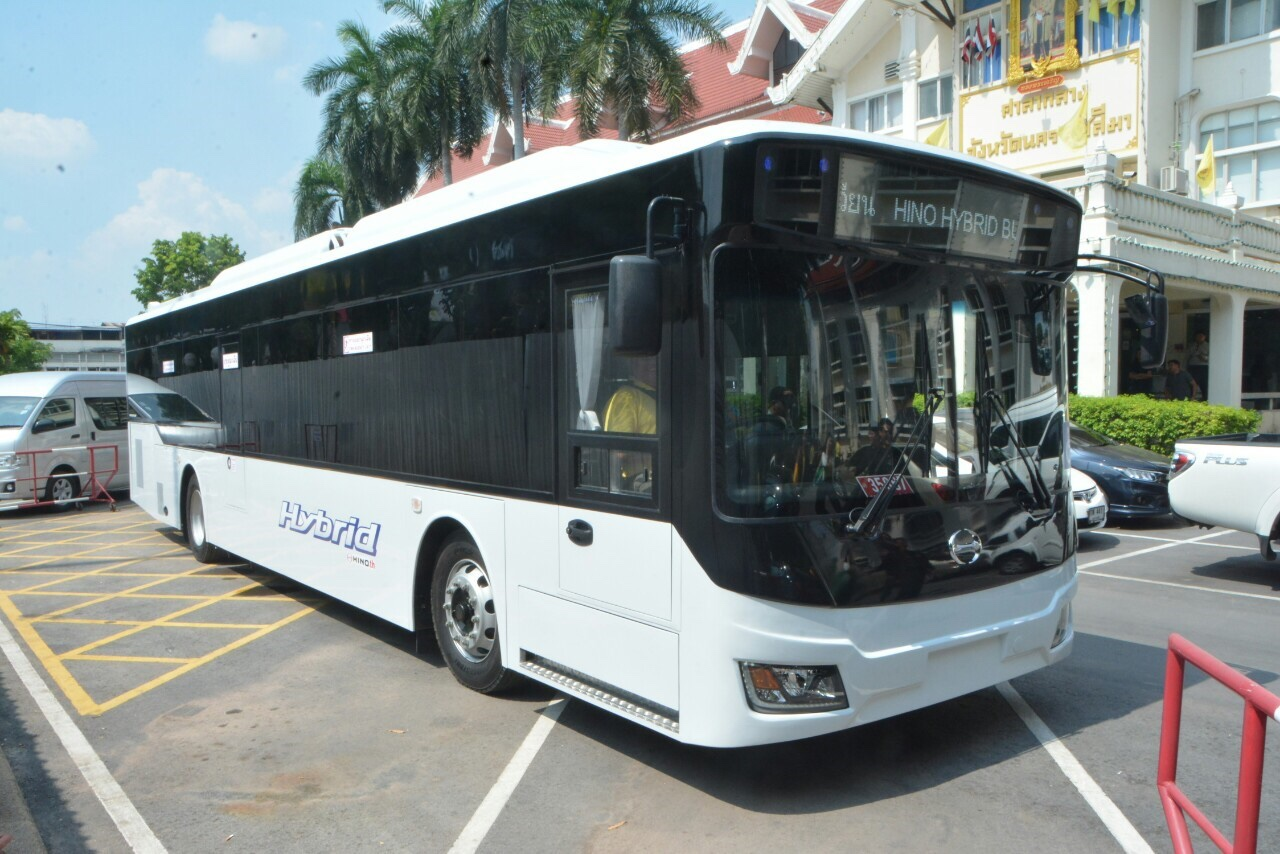bus: (124, 119, 1082, 748)
